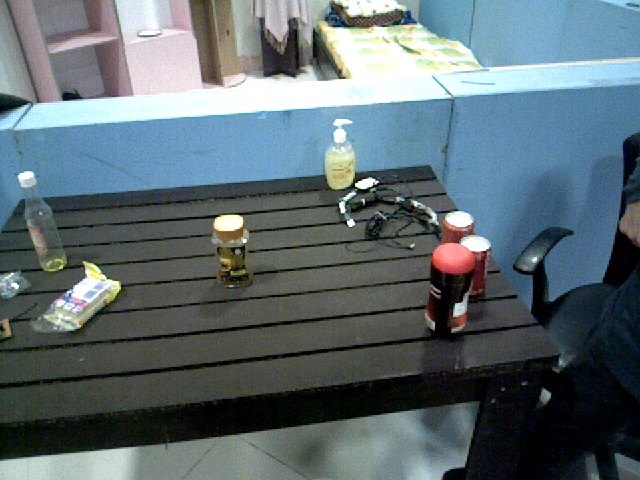coca: (457, 235, 487, 299)
coffee: (211, 213, 257, 290), (431, 242, 466, 339)
fanta: (442, 210, 472, 246)
